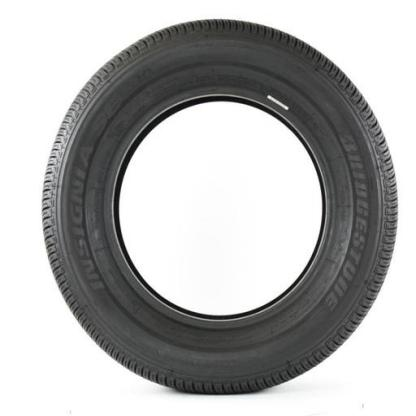Tire: (39, 18, 400, 395)
